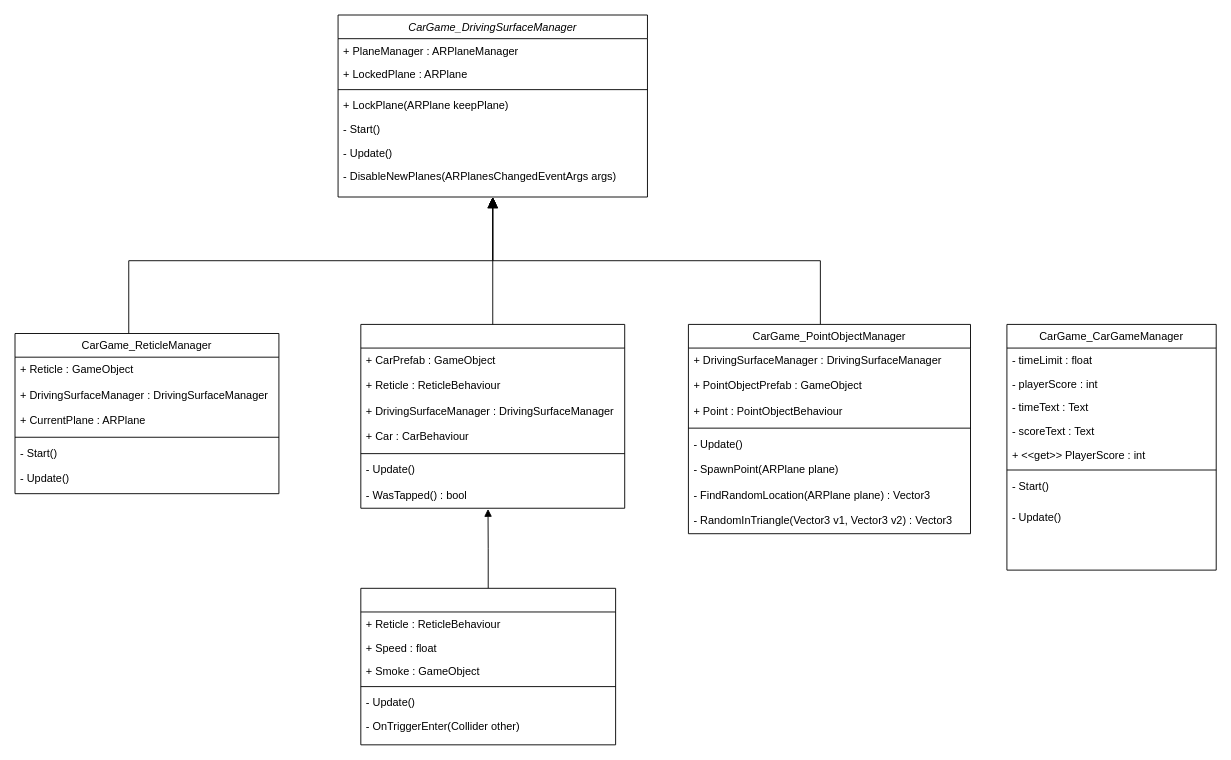
The diagram is 1231 pixels wide and 760 high, and some of its shapes have lost their labels. The box of each missing label's shape, as (x1, y1, x2, y2) in pixels:
CarBehaviour: (360, 587, 616, 745)
CarGame_CarManager: (360, 324, 625, 508)
